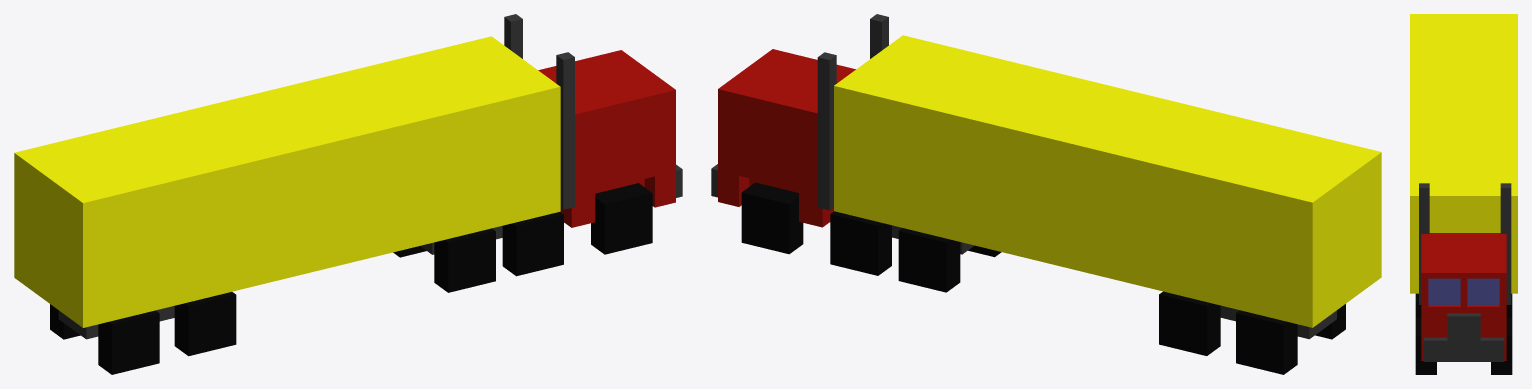
The model's file is Truck.FBX.
3 renders of one model, left to right at view 1: azimuth 30°, elevation 25°; view 2: azimuth 150°, elevation 25°; view 3: azimuth 270°, elevation 25°, orthographic. The views are drawn at different scales.
Visible parts, largest first — view 1: Trailer-01, Cab-01, Tire=02, Tire=08, Tire=10, Tire=06, Tire=04, Stack-02, Stack-01, Trailer-02; view 2: Trailer-01, Cab-01, Tire=01, Tire=05, Tire=03, Tire=07, Tire=09, Stack-01, Stack-02, Trailer-02; view 3: Trailer-01, Cab-01, grill, Stack-01, Stack-02, Tire=02, Tire=01, Tire=04, Tire=03.
Part boxes in pixels (<box>): Trailer-01: <box>14,36,560,327</box>; Cab-01: <box>538,50,675,227</box>; Tire=02: <box>591,183,652,254</box>; Tire=08: <box>174,292,236,356</box>; Tire=10: <box>98,310,159,374</box>; Tire=06: <box>434,228,495,292</box>; Tire=04: <box>502,212,563,276</box>; Stack-02: <box>556,52,574,209</box>; Stack-01: <box>504,14,522,58</box>; Trailer-02: <box>58,306,174,339</box>; Trailer-01: <box>834,35,1381,327</box>; Cab-01: <box>718,49,855,227</box>; Tire=01: <box>741,182,803,254</box>; Tire=05: <box>898,228,960,292</box>; Tire=03: <box>830,211,891,275</box>; Tire=07: <box>1159,291,1220,355</box>; Tire=09: <box>1236,310,1297,374</box>; Stack-01: <box>817,52,836,210</box>; Stack-02: <box>870,14,888,58</box>; Trailer-02: <box>1220,305,1336,339</box>; Trailer-01: <box>1410,14,1517,293</box>; Cab-01: <box>1421,233,1506,360</box>; grill: <box>1423,313,1504,361</box>; Stack-01: <box>1500,183,1511,304</box>; Stack-02: <box>1419,183,1429,304</box>; Tire=02: <box>1415,317,1436,374</box>; Tire=01: <box>1491,317,1512,374</box>; Tire=04: <box>1415,293,1421,317</box>; Tire=03: <box>1506,293,1512,317</box>.
Bounding box in the file's own units: 25.49 × 8.11 × 5.
